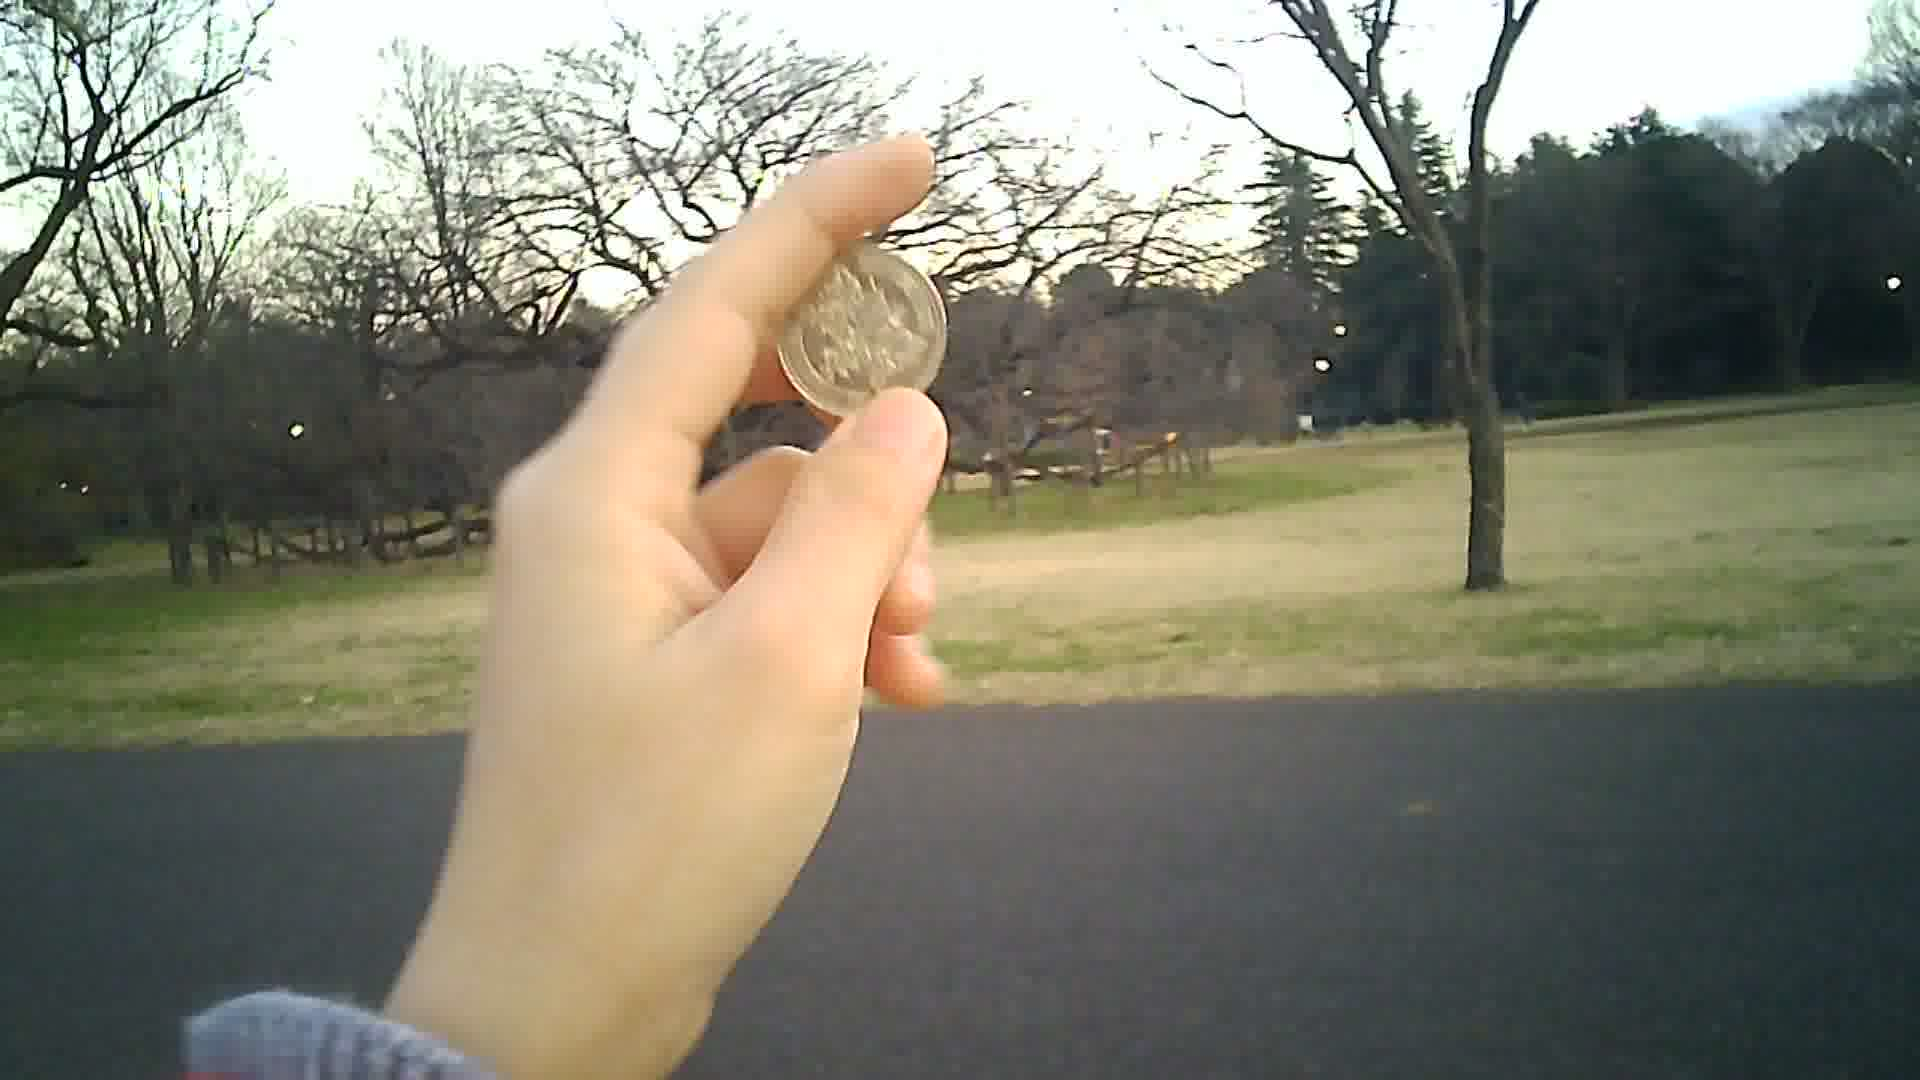500 Yen: (769, 243, 951, 421)
